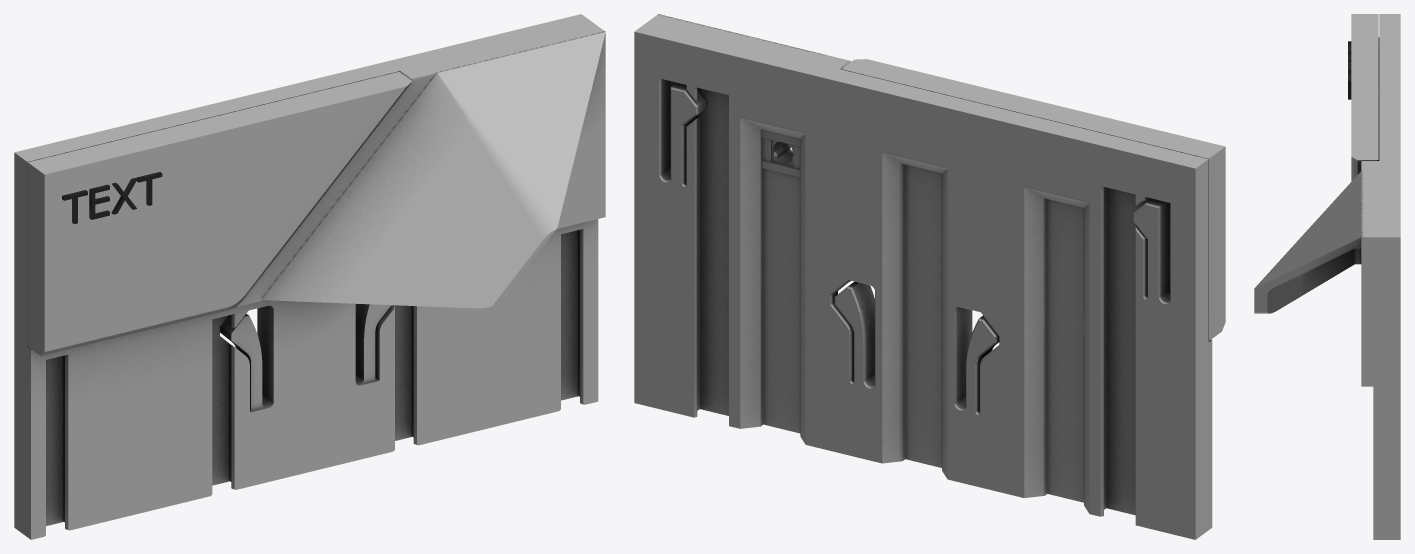
File: edgelabel.glb
3 renders of one model, left to right at view 1: azimuth 30°, elevation 25°; view 2: azimuth 150°, elevation 25°; view 3: azimuth 270°, elevation 25°, orthographic. The views are drawn at different scales.
Visible parts, largest first — view 1: EdgeLabel.002, EdgeLabel, EdgeLabel.001, Text; view 2: EdgeLabel.002, EdgeLabel.001, EdgeLabel; view 3: EdgeLabel.002, EdgeLabel, EdgeLabel.001, Text.
Boxes of the visible parts, box(x1,y1,x2,y2) form: EdgeLabel.002: box(14, 14, 598, 539); EdgeLabel: box(236, 26, 605, 308); EdgeLabel.001: box(27, 72, 412, 355); Text: box(62, 172, 162, 224); EdgeLabel.002: box(634, 19, 1212, 539); EdgeLabel.001: box(842, 59, 1225, 340); EdgeLabel: box(651, 14, 850, 158); EdgeLabel.002: box(1373, 14, 1400, 539); EdgeLabel: box(1254, 161, 1373, 386); EdgeLabel.001: box(1351, 14, 1378, 181); Text: box(1348, 41, 1351, 99).
Size of the model in its own units: 87 by 55 by 24.1.
Materials: 4 (3 with a texture image).
